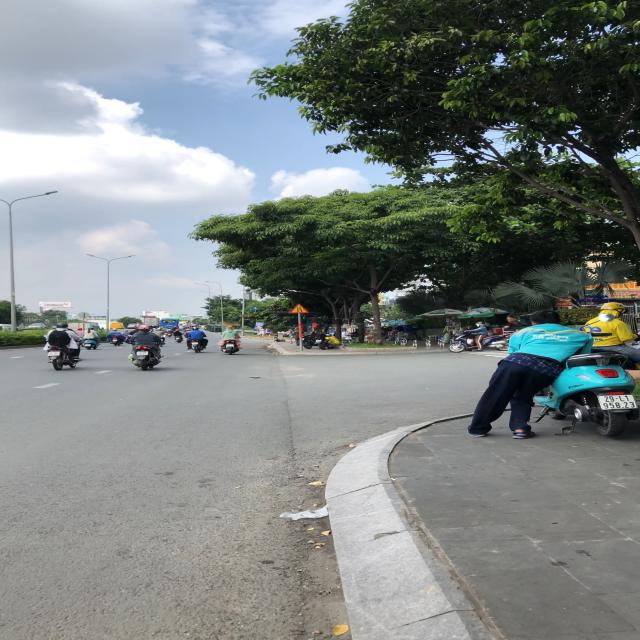Bien bao duong bi thu hep: (287, 304, 310, 314)
